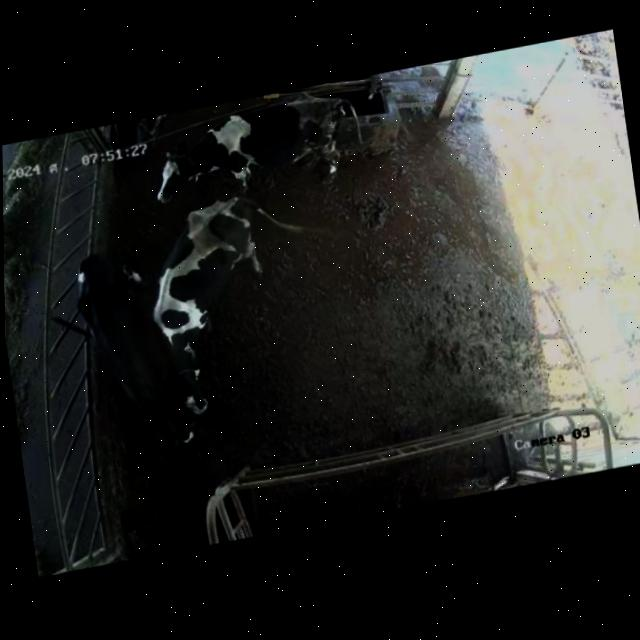stand: (137, 171, 325, 426), (138, 80, 375, 222), (64, 233, 199, 480)
